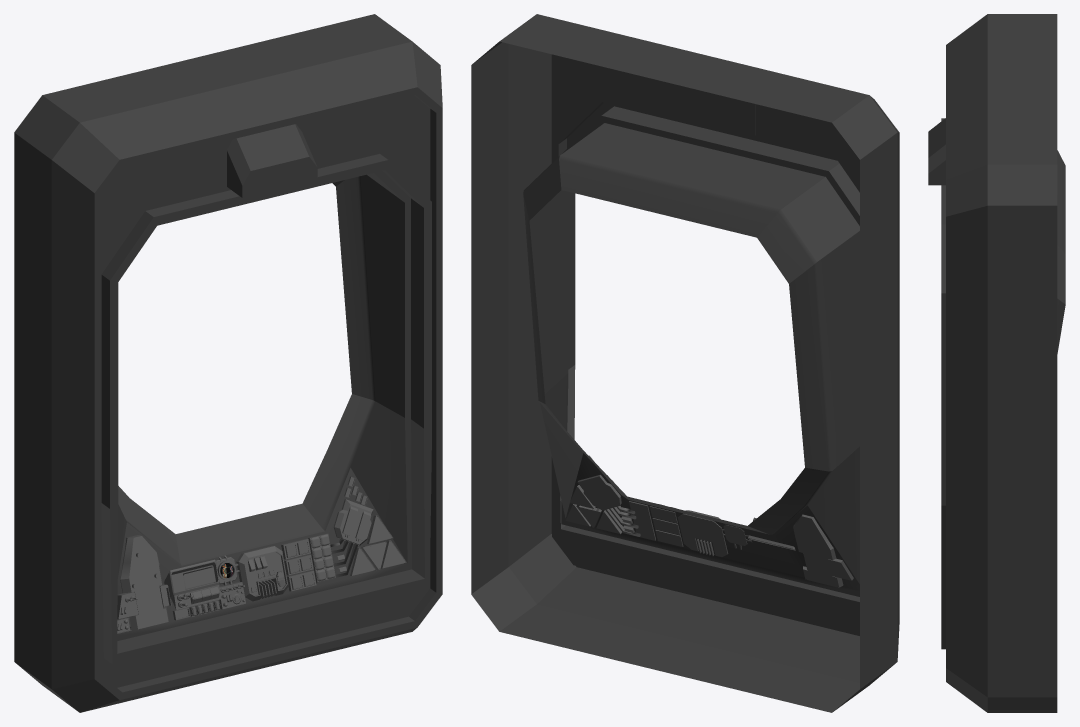
File: Frame_Dashboard.fbx
3 views of the same model, side by side, from view 1: azimuth 30°, elevation 25°; view 2: azimuth 150°, elevation 25°; view 3: azimuth 270°, elevation 25° (orthographic). The views are drawn at different scales.
Visible parts, largest first — view 1: Frame1, Boards, Frame_up_Part, Triangels, Long_parts, Buttons_type, Button_Holders; view 2: Frame1, Boards, Frame_up_Part; view 3: Frame1, Frame_up_Part.
Part boxes in pixels (x1,y1,x2,y2): Frame1: [14, 14, 442, 712]; Boards: [117, 499, 406, 633]; Frame_up_Part: [227, 124, 317, 197]; Triangels: [352, 517, 405, 574]; Long_parts: [117, 476, 367, 630]; Buttons_type: [192, 534, 335, 615]; Button_Holders: [123, 561, 284, 629]; Frame1: [471, 14, 899, 712]; Boards: [565, 474, 853, 587]; Frame_up_Part: [679, 85, 755, 135]; Frame1: [941, 14, 1065, 712]; Frame_up_Part: [928, 118, 945, 185].
Size of the model in its own units: 1121 by 1627 by 370.
